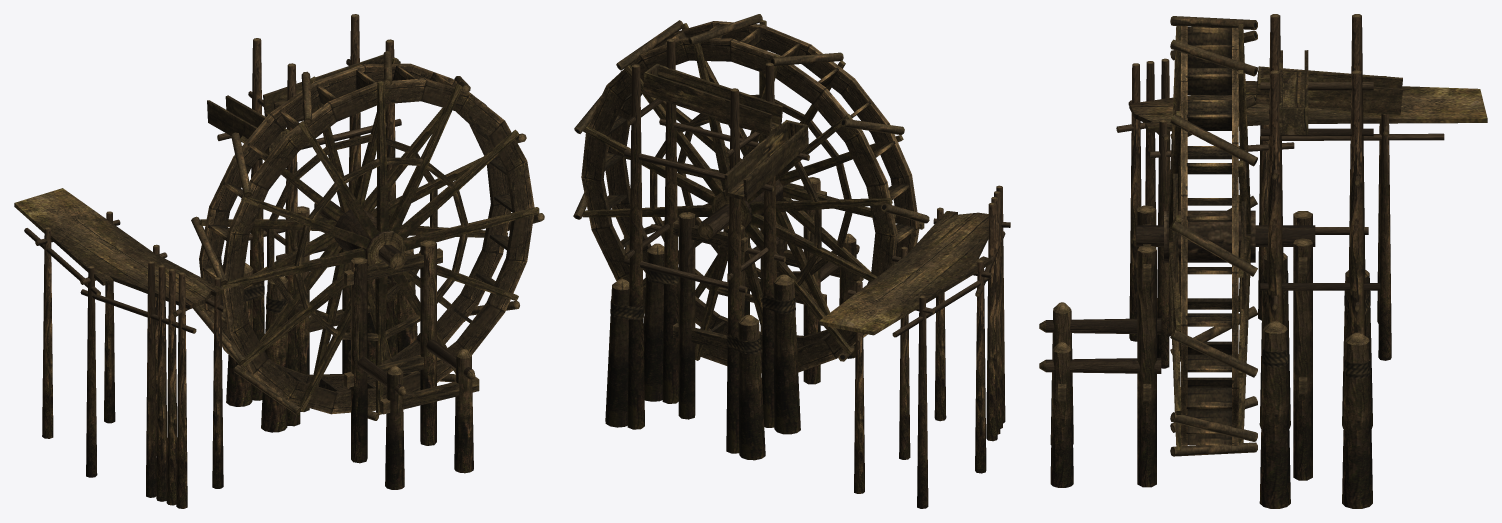
Rendered from shuiche.FBX.
The picture shows the model from 3 angles, left to right: view 1: azimuth 30°, elevation 25°; view 2: azimuth 150°, elevation 25°; view 3: azimuth 270°, elevation 25°; orthographic projection. The views are drawn at different scales.
Visible parts, largest first — view 1: Shuiche001; view 2: Shuiche001; view 3: Shuiche001.
Part boxes in pixels (box(x1,y1,x2,y2)): Shuiche001: box(14, 14, 544, 508); Shuiche001: box(573, 14, 1010, 508); Shuiche001: box(1039, 14, 1487, 508).
Bounding box in the file's own units: 172 × 140 × 133.
1 material, 1 textured.
